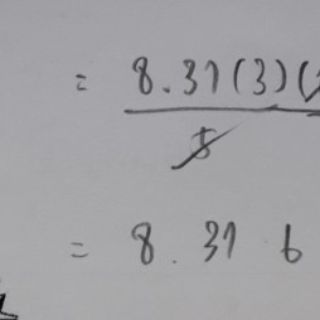.: (160, 82, 171, 93)
1: (221, 218, 243, 259), (253, 52, 270, 98), (204, 53, 222, 93)
3: (180, 49, 201, 99), (201, 216, 220, 264)
6: (277, 217, 306, 265)
8: (126, 219, 159, 265), (131, 52, 156, 96)
